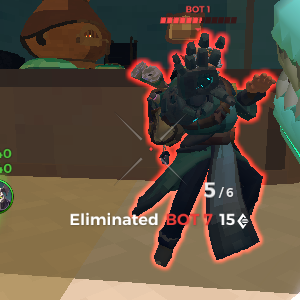model: (118, 25, 281, 268)
